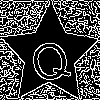Q: (24, 30, 74, 87)
